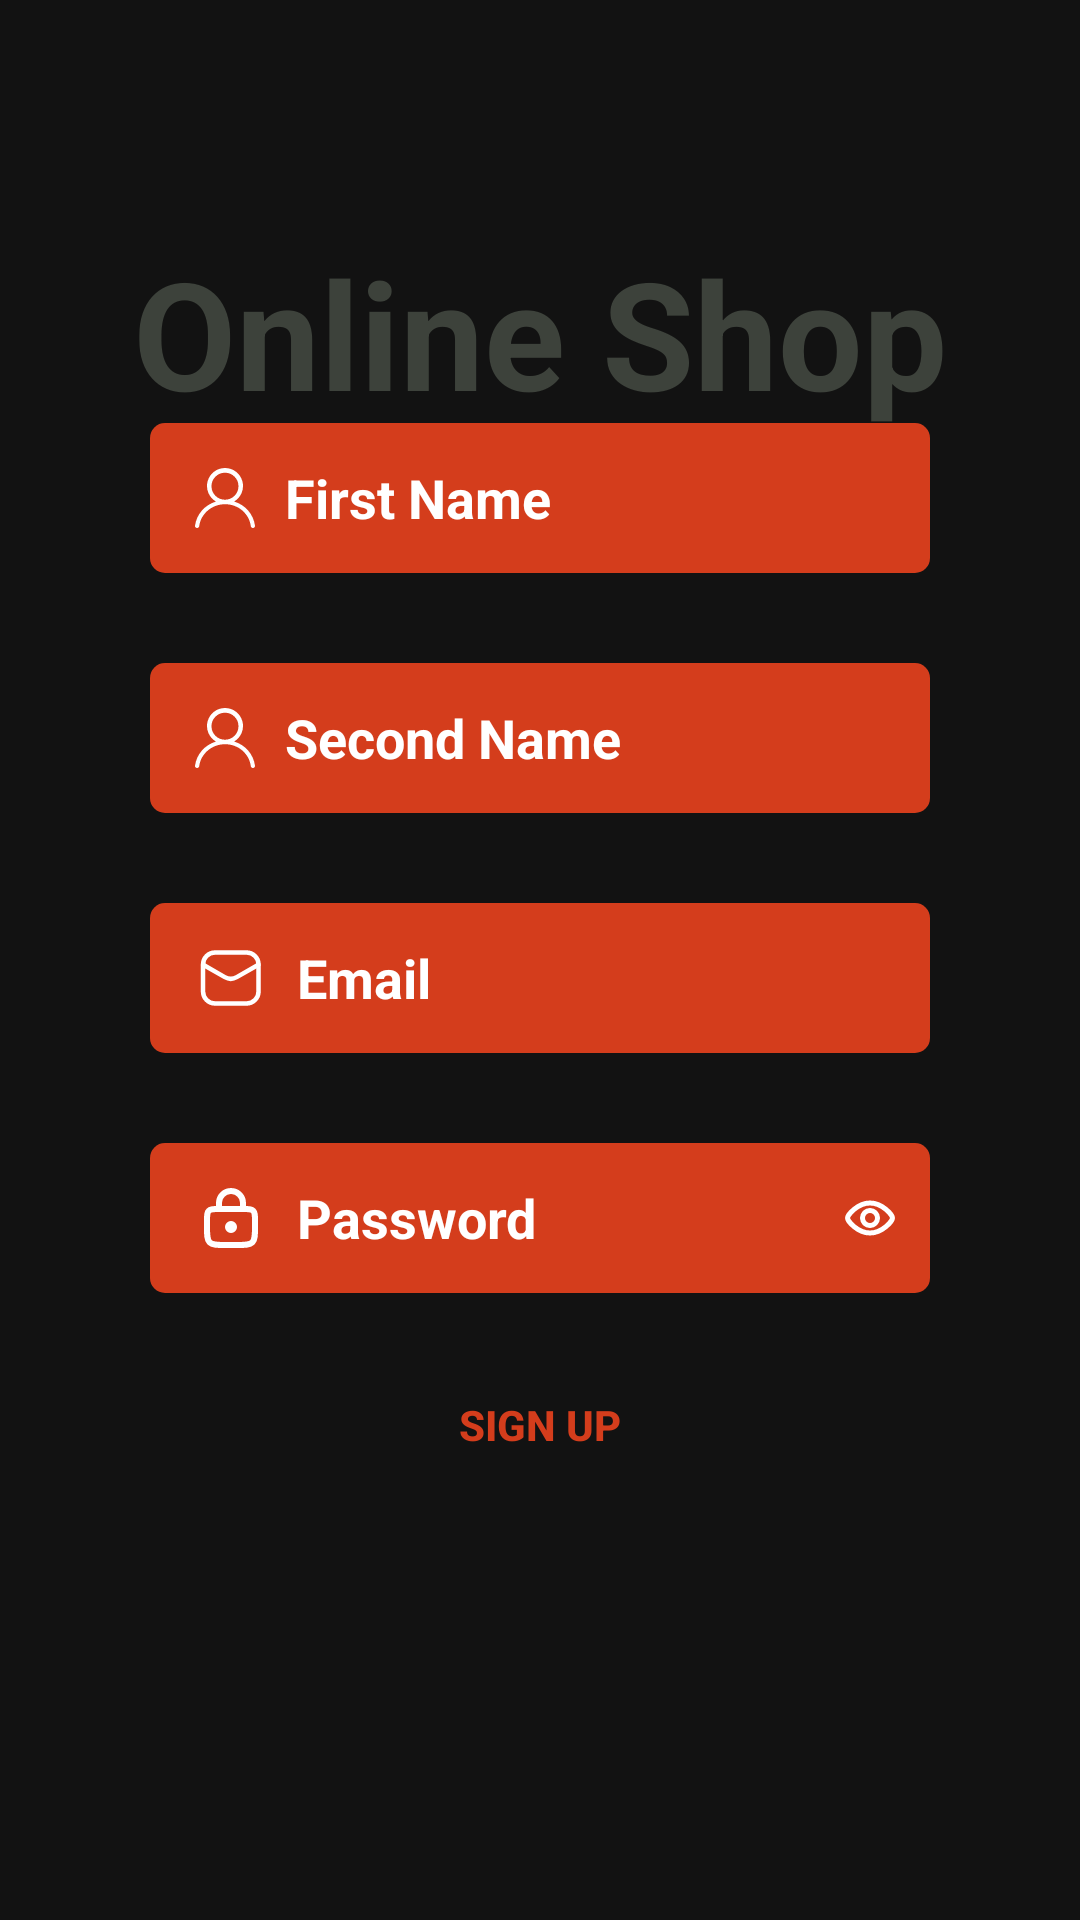

Icons on this 1080*1920 Android screen, each with its box as (x1, y1, x2, y2):
eye: (845, 1200, 895, 1236)
